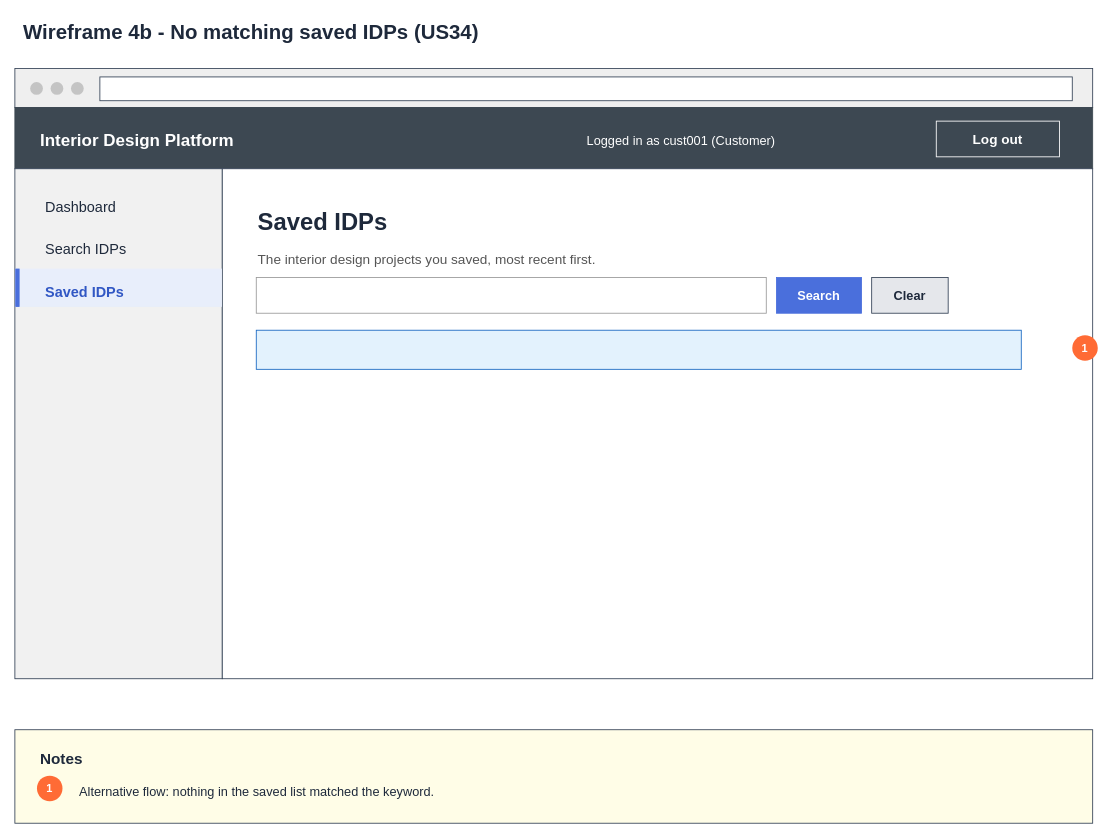
Some shapes in this 1113 by 838 pixel diagram are drawn without their labels. Here are the shapes that lost their labels. From the top down, the centre of each, then its label:
[585,88]: localhost:5000/customer/saved-list/search?keyword=bathroom
[510,295]: bathroom
[638,349]: ℹ No saved IDPs match your search
